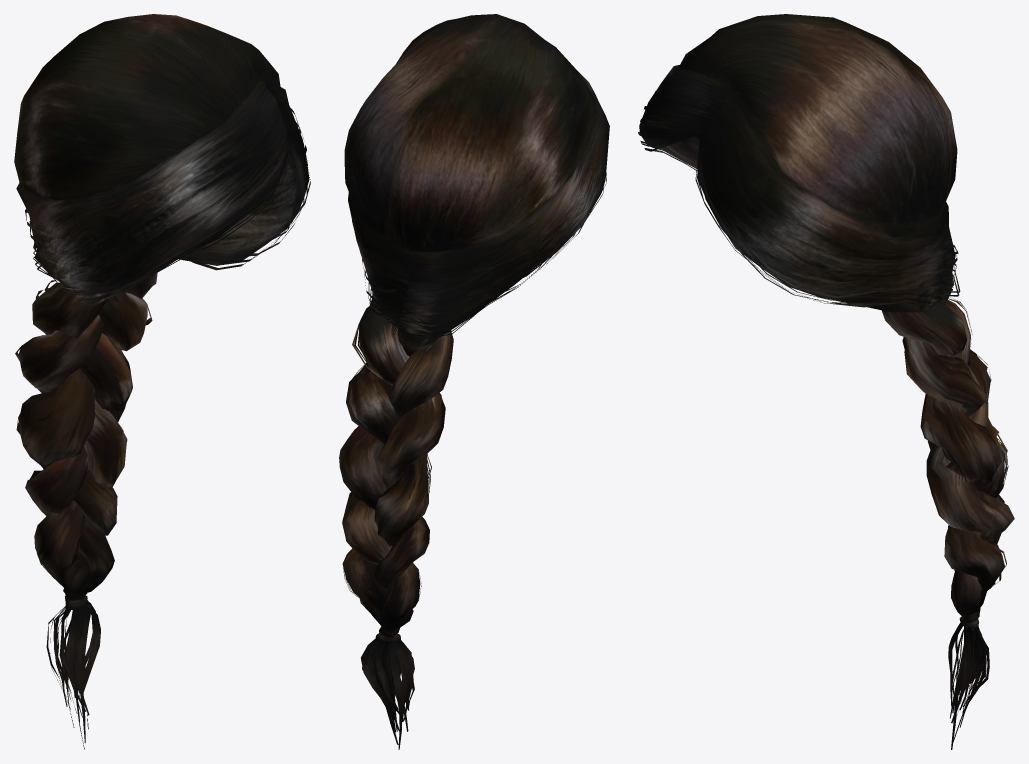
Rendered from mh_braid01.glb.
3 renders of one model, left to right at view 1: azimuth 30°, elevation 25°; view 2: azimuth 150°, elevation 25°; view 3: azimuth 270°, elevation 25°, orthographic. The views are drawn at different scales.
Visible parts, largest first — view 1: mh_braid01; view 2: mh_braid01; view 3: mh_braid01.
Boxes of the visible parts, left/top/right/bottom form: mh_braid01: left=14, top=14, right=310, bottom=749; mh_braid01: left=339, top=14, right=609, bottom=749; mh_braid01: left=638, top=14, right=1014, bottom=749.
Size of the model in its own units: 0.2065 by 0.6505 by 0.3062.
1 material, 1 textured.
